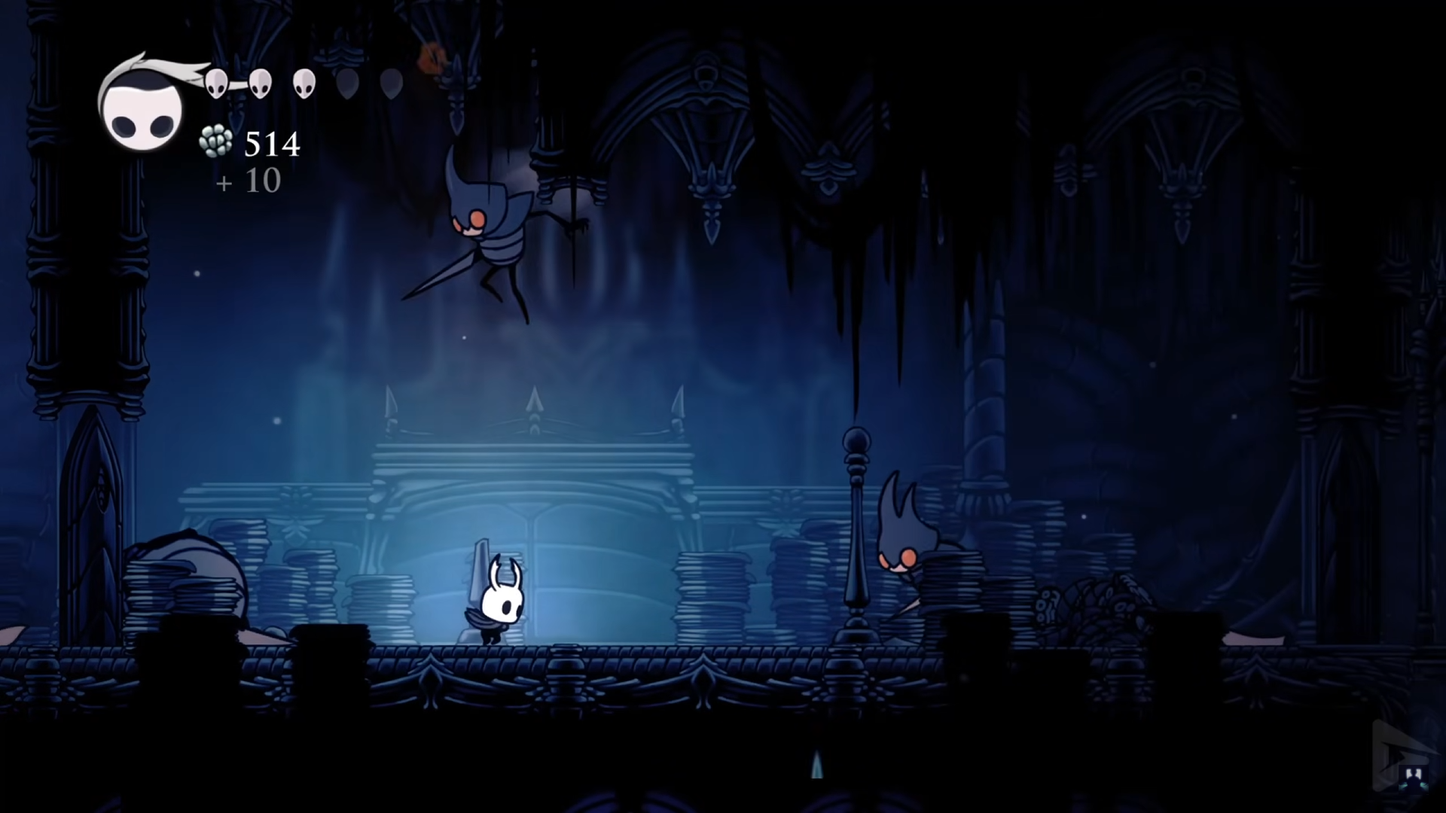HK: (463, 551, 532, 647)
